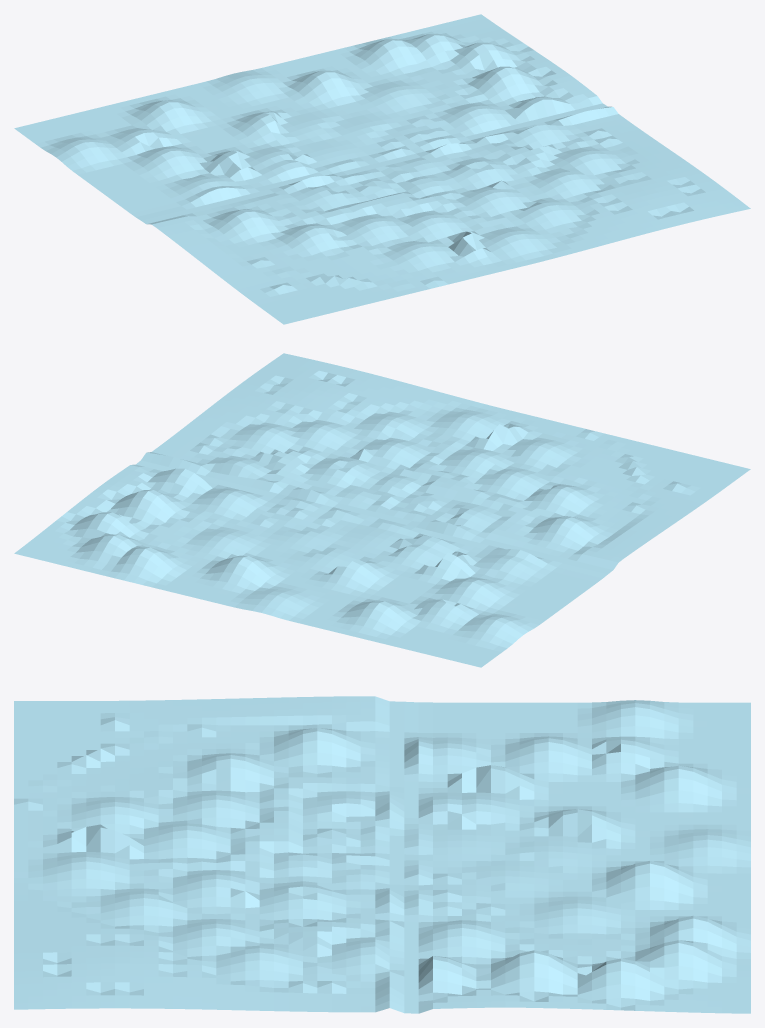
The model's file is MAP.FBX.
3 views of the same model, one above another, from view 1: azimuth 30°, elevation 25°; view 2: azimuth 150°, elevation 25°; view 3: azimuth 270°, elevation 25° (orthographic). The views are drawn at different scales.
Visible parts, largest first — view 1: blockSnowHalf; view 2: blockSnowHalf; view 3: blockSnowHalf.
Part boxes in pixels (x1,y1,x2,y2): blockSnowHalf: (14, 14, 750, 324); blockSnowHalf: (14, 353, 750, 667); blockSnowHalf: (14, 696, 750, 1013).
Bounding box in the file's own units: 301183 × 11114 × 301183.
